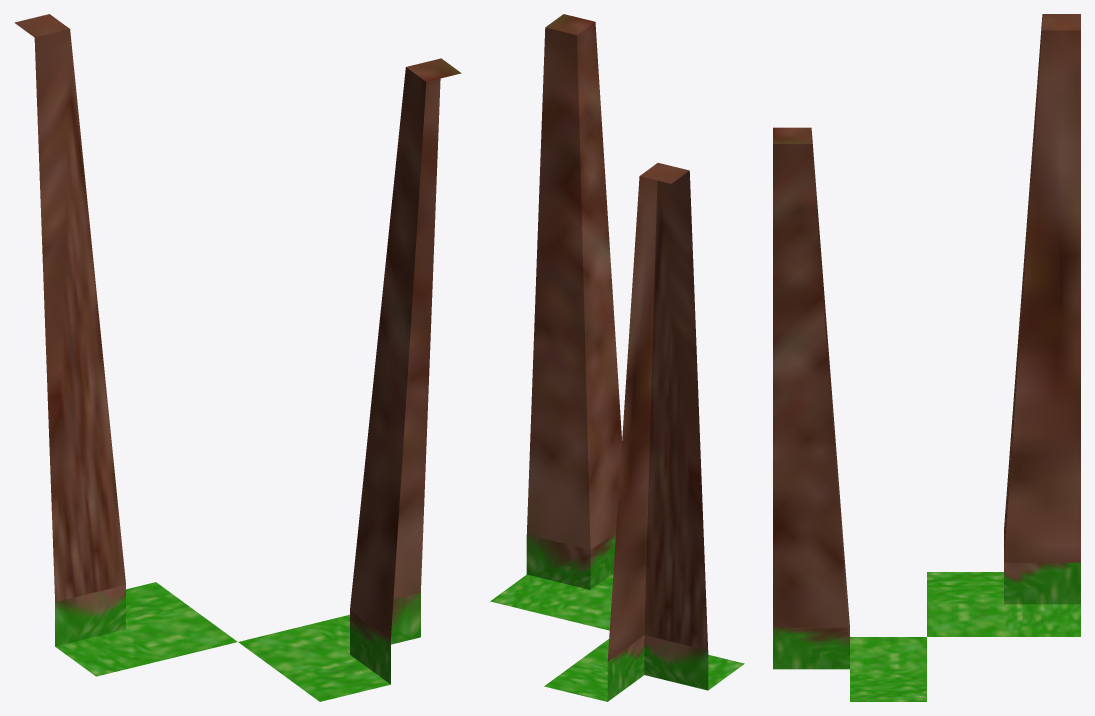
The model's file is mountain_09_GEO.fbx.
3 renders of one model, left to right at view 1: azimuth 30°, elevation 25°; view 2: azimuth 150°, elevation 25°; view 3: azimuth 270°, elevation 25°, orthographic. The views are drawn at different scales.
Visible parts, largest first — view 1: mountain_09_GEO; view 2: mountain_09_GEO; view 3: mountain_09_GEO.
Part boxes in pixels (x1,y1,x2,y2): mountain_09_GEO: (14, 14, 461, 701); mountain_09_GEO: (490, 14, 744, 701); mountain_09_GEO: (773, 14, 1080, 701).
Size of the model in its own units: 10 by 20 by 10.
